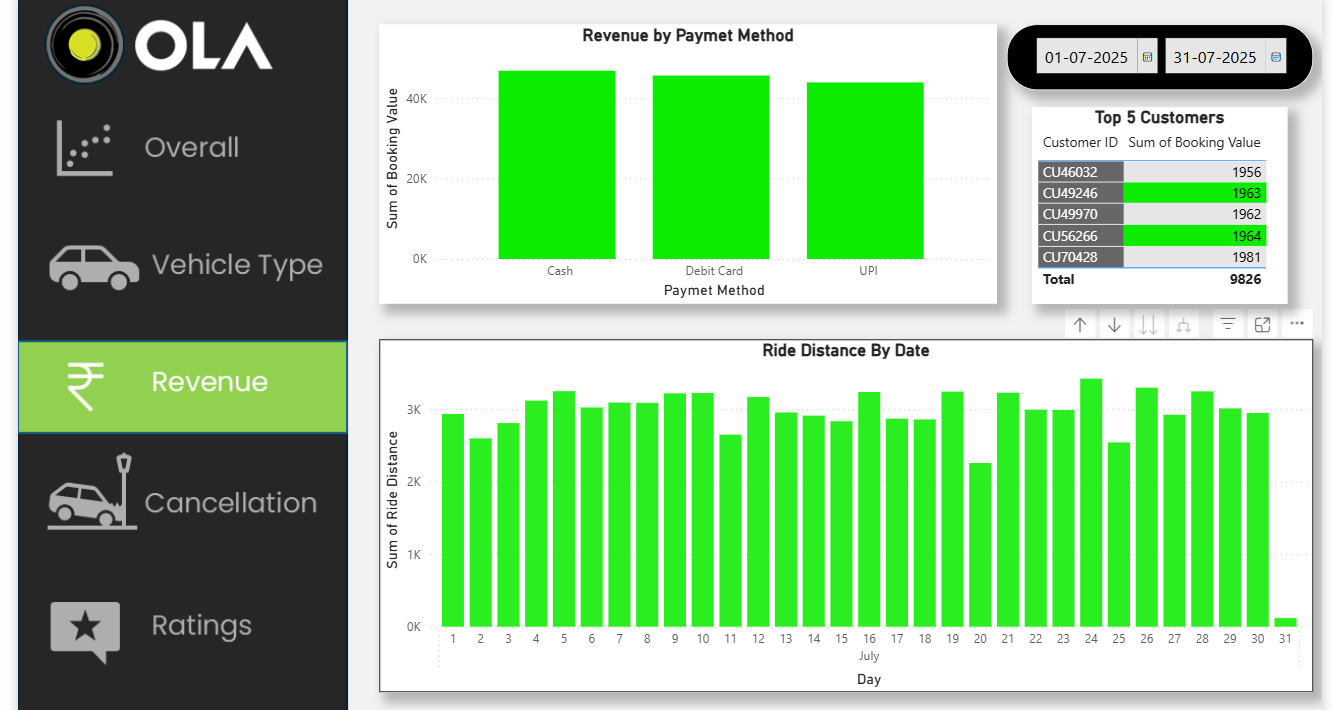

The page's visual inventory and layout, read from the dashboard file:
{"tool":"powerbi","page":{"name":"Revenue","canvas":[1280,720],"ordinal":2},"visuals":[{"type":"actionButton","box":[0,222.1,323.9,92],"z":0},{"type":"actionButton","box":[0,439.3,323.9,106.7],"z":1000},{"type":"actionButton","box":[0,565.6,323.9,106.7],"z":2000},{"type":"actionButton","box":[0,106.7,323.9,93.3],"z":3000},{"type":"columnChart","title":"Revenue by Paymet Method","fields":{"Y":["Sum(hyderabad_booking_data.Booking Value)"],"Category":["hyderabad_booking_data.Paymet Method"]},"box":[354,30.2,606.5,274.4],"z":4000},{"type":"columnChart","title":"Ride Distance By Date","fields":{"Y":["Sum(hyderabad_booking_data.Ride Distance)"],"Category":["hyderabad_booking_data.Date.Variation.Date Hierarchy.Month","hyderabad_booking_data.Date.Variation.Date Hierarchy.Day"]},"box":[354,340.3,916.6,347.2],"z":5000},{"type":"tableEx","title":"Top 5 Customers","fields":{"Values":["hyderabad_booking_data.Customer ID","Sum(hyderabad_booking_data.Booking Value)"]},"box":[994.9,111.1,251.1,193.5],"z":6000},{"type":"slicer","title":"Date","fields":{"Values":["hyderabad_booking_data.Date"]},"box":[970.2,30.2,300.5,64.5],"z":7000}]}

Visuals, with their boxes on the page's 1280x720 design canvas (x1, y1, x2, y2). These are canvas units, not pixel positions in the 1332x710 screenshot, which may show the page scaled, cropped or inside an application window:
actionButton: pyautogui.locateOnScreen(0, 222, 324, 314)
actionButton: pyautogui.locateOnScreen(0, 439, 324, 546)
actionButton: pyautogui.locateOnScreen(0, 566, 324, 672)
actionButton: pyautogui.locateOnScreen(0, 107, 324, 200)
"Revenue by Paymet Method" columnChart: pyautogui.locateOnScreen(354, 30, 960, 305)
"Ride Distance By Date" columnChart: pyautogui.locateOnScreen(354, 340, 1271, 688)
"Top 5 Customers" tableEx: pyautogui.locateOnScreen(995, 111, 1246, 305)
"Date" slicer: pyautogui.locateOnScreen(970, 30, 1271, 95)
